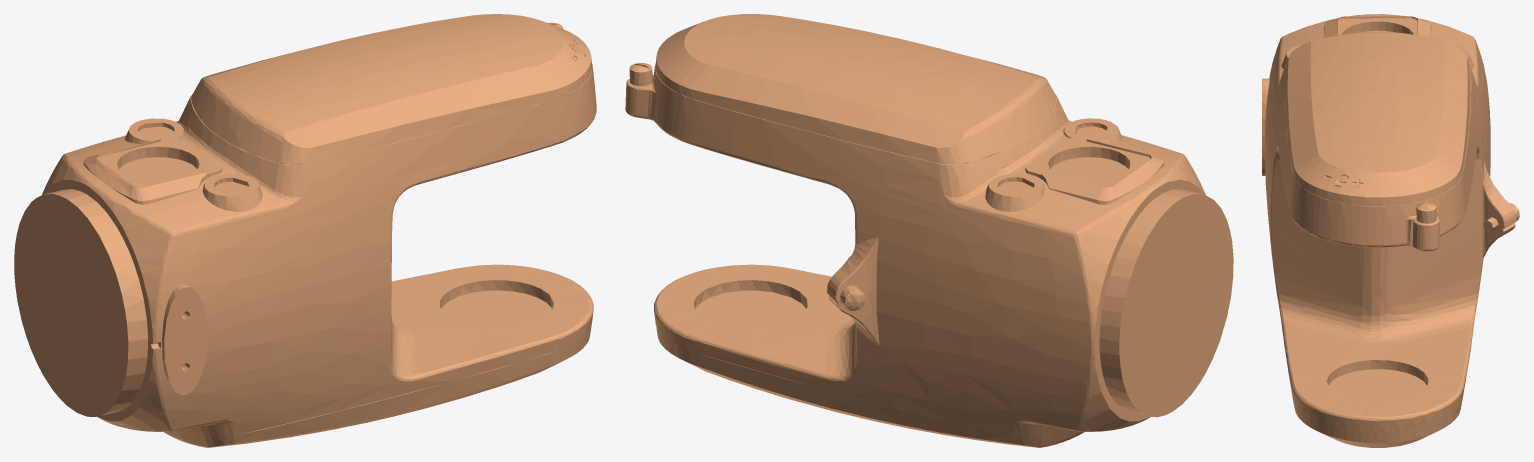
3 renders of one model, left to right at view 1: azimuth 30°, elevation 25°; view 2: azimuth 150°, elevation 25°; view 3: azimuth 270°, elevation 25°, orthographic. The views are drawn at different scales.
Visible parts, largest first — view 1: /Link_4/Link_4-mesh/0; view 2: /Link_4/Link_4-mesh/0; view 3: /Link_4/Link_4-mesh/0.
Part boxes in pixels (<box>): /Link_4/Link_4-mesh/0: <box>14,14,596,447</box>; /Link_4/Link_4-mesh/0: <box>625,14,1233,447</box>; /Link_4/Link_4-mesh/0: <box>1262,14,1519,447</box>.
Size of the model in its own units: 0.2635 by 0.1594 by 0.127.
